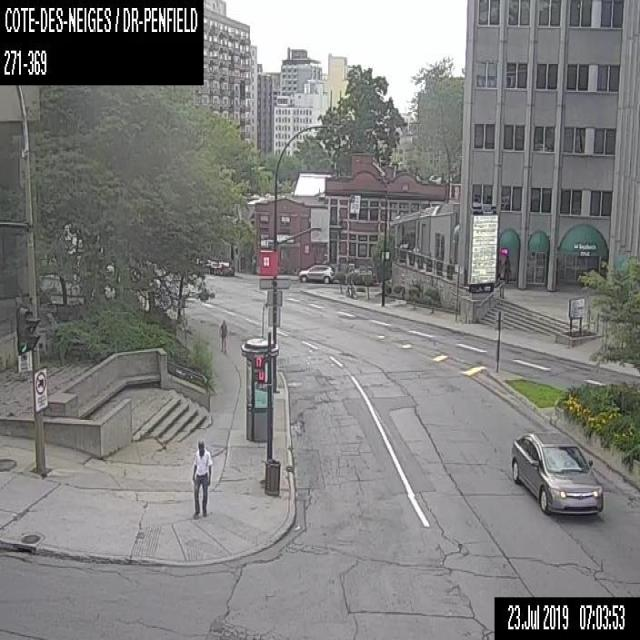pedestrian: (191, 438, 212, 518), (219, 319, 226, 352), (504, 261, 510, 288), (496, 260, 501, 279)
vehicle: (510, 429, 604, 514), (297, 262, 334, 282), (215, 257, 234, 276)
